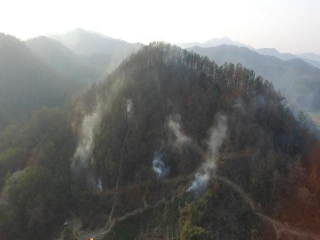smoke: (70, 92, 239, 198)
